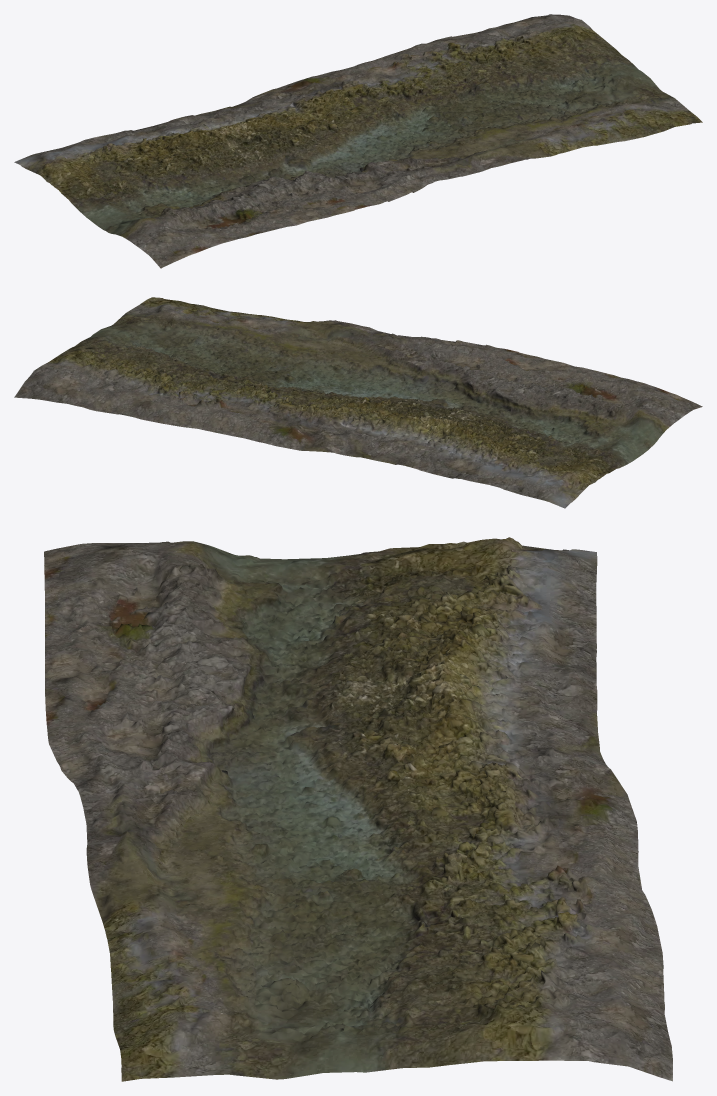
The model's file is coast_line_02.glb.
3 views of the same model, one above another, from view 1: azimuth 30°, elevation 25°; view 2: azimuth 150°, elevation 25°; view 3: azimuth 270°, elevation 25° (orthographic). The views are drawn at different scales.
Visible parts, largest first — view 1: coast_line_02; view 2: coast_line_02; view 3: coast_line_02.
Boxes of the visible parts, x1,y1,x2,y2 form: coast_line_02: (14, 14, 702, 268); coast_line_02: (14, 297, 702, 508); coast_line_02: (44, 537, 672, 1081).
Size of the model in its own units: 45.63 by 2.29 by 23.28.
1 material, 1 textured.
